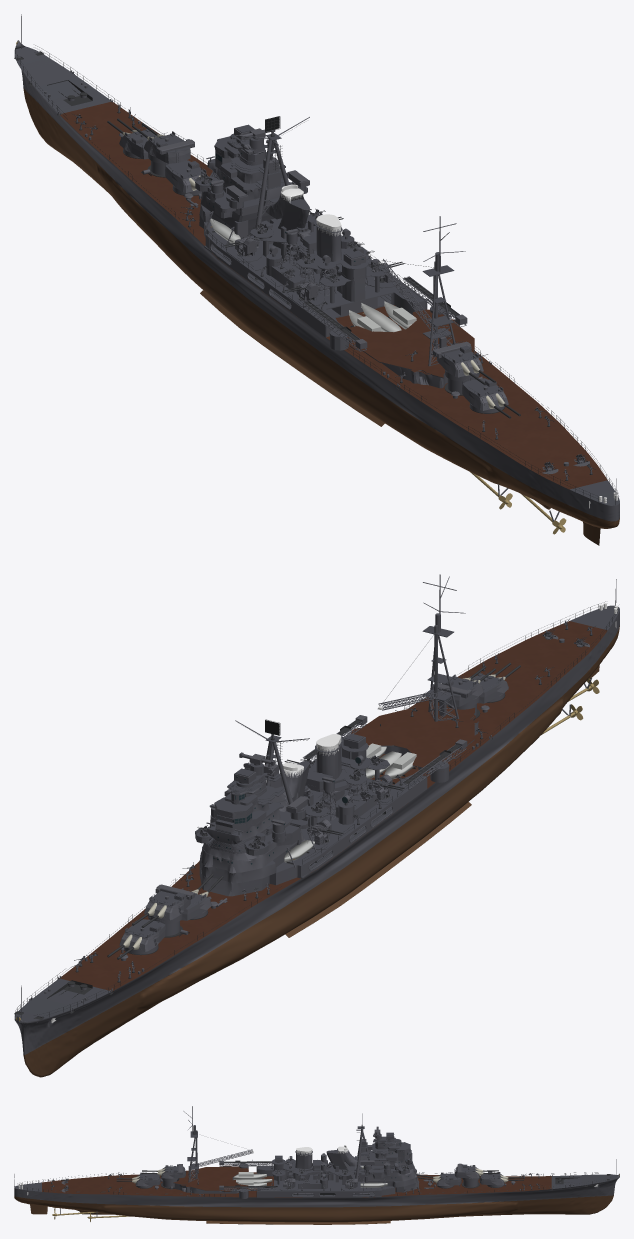
File: takao.glb
3 renders of one model, top to bottom at view 1: azimuth 30°, elevation 25°; view 2: azimuth 150°, elevation 25°; view 3: azimuth 270°, elevation 25°, orthographic. The views are drawn at different scales.
Parts seen in each view (by area): view 1: Blueprint lofted hull, aft-05.mesh, shelter-deck.mesh, mainmast.mesh, torpedo-rooms.mesh, bilge-keels.mesh, foremast.mesh, after-funnel-01.mesh, main-2.yaw.mesh, main-4.yaw.mesh, railings.mesh, main-5.yaw.mesh (+2 smaller); view 2: Blueprint lofted hull, aft-05.mesh, shelter-deck.mesh, mainmast.mesh, bilge-keels.mesh, torpedo-rooms.mesh, after-funnel-01.mesh, main-2.yaw.mesh, bridge-03.mesh, bridge-02.mesh, main-1.yaw.mesh, foremast.mesh (+5 smaller); view 3: Blueprint lofted hull, aft-05.mesh, shelter-deck.mesh, torpedo-rooms.mesh, bilge-keels.mesh, mainmast.mesh, after-funnel-01.mesh, foremast.mesh, railings.mesh, main-2.yaw.mesh, catapult-starboard.mesh, main-4.yaw.mesh (+11 smaller).
Part boxes in pixels (<box>): Blueprint lofted hull: <box>14,40,619,528</box>; aft-05.mesh: <box>331,309,478,377</box>; shelter-deck.mesh: <box>204,222,426,325</box>; mainmast.mesh: <box>422,216,465,366</box>; torpedo-rooms.mesh: <box>204,240,391,324</box>; bilge-keels.mesh: <box>200,290,384,426</box>; foremast.mesh: <box>235,117,309,247</box>; after-funnel-01.mesh: <box>316,214,341,278</box>; main-2.yaw.mesh: <box>144,131,194,163</box>; main-4.yaw.mesh: <box>432,341,483,377</box>; railings.mesh: <box>15,45,618,501</box>; main-5.yaw.mesh: <box>462,376,508,410</box>; Blueprint lofted hull: <box>14,605,619,1077</box>; aft-05.mesh: <box>351,702,478,771</box>; shelter-deck.mesh: <box>275,759,426,873</box>; mainmast.mesh: <box>422,574,465,721</box>; bilge-keels.mesh: <box>285,802,471,937</box>; torpedo-rooms.mesh: <box>297,791,409,878</box>; after-funnel-01.mesh: <box>316,734,344,801</box>; main-2.yaw.mesh: <box>144,884,194,920</box>; bridge-03.mesh: <box>201,841,297,873</box>; bridge-02.mesh: <box>199,842,297,883</box>; main-1.yaw.mesh: <box>119,917,166,951</box>; foremast.mesh: <box>235,720,309,842</box>; Blueprint lofted hull: <box>14,1172,619,1222</box>; aft-05.mesh: <box>173,1165,248,1193</box>; shelter-deck.mesh: <box>257,1166,394,1191</box>; torpedo-rooms.mesh: <box>274,1191,381,1197</box>; bilge-keels.mesh: <box>206,1221,390,1224</box>; mainmast.mesh: <box>183,1106,198,1182</box>; after-funnel-01.mesh: <box>293,1147,312,1180</box>; foremast.mesh: <box>353,1113,369,1184</box>; railings.mesh: <box>17,1164,598,1196</box>; main-2.yaw.mesh: <box>454,1163,479,1178</box>; catapult-starboard.mesh: <box>219,1185,277,1191</box>; main-4.yaw.mesh: <box>161,1164,185,1178</box>.
Bounding box in the file's own units: 23.22 × 40.22 × 204.
15 materials, 11 textured.
